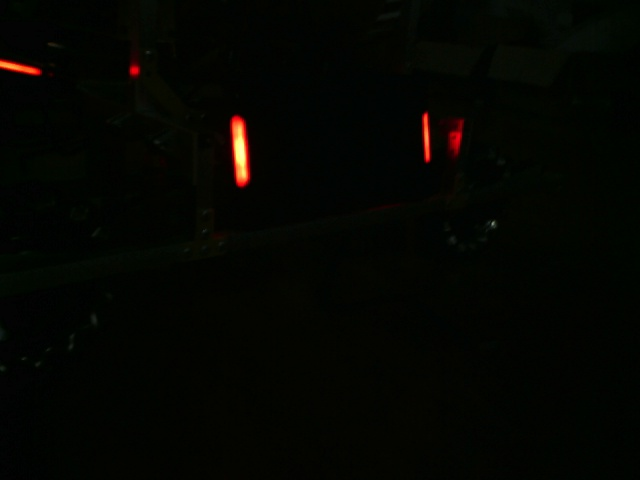lamp: (222, 110, 255, 191)
